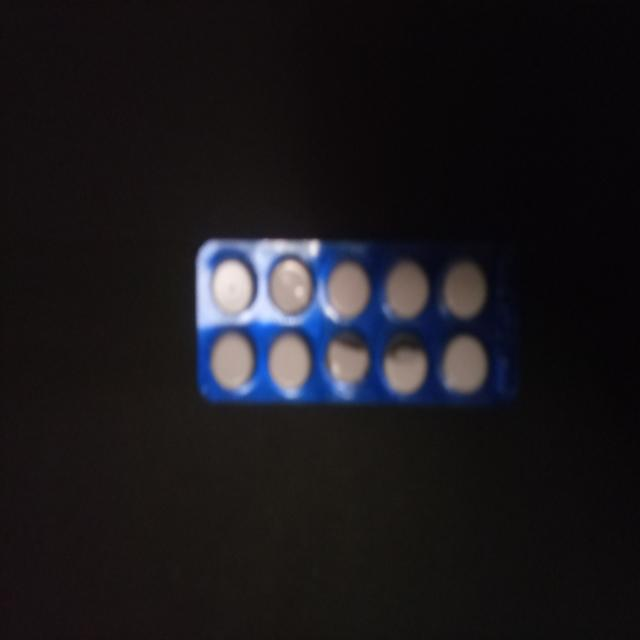defect: (378, 328, 430, 398), (324, 326, 372, 389)
